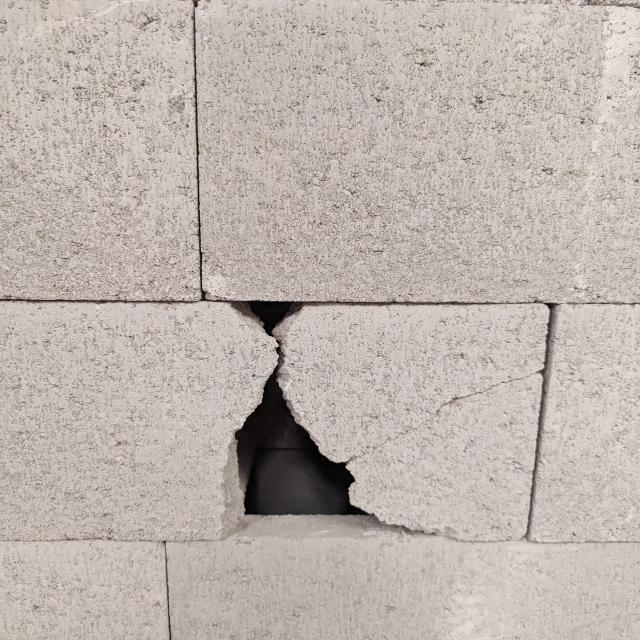crack: (344, 362, 540, 459)
spall: (208, 303, 455, 543)
